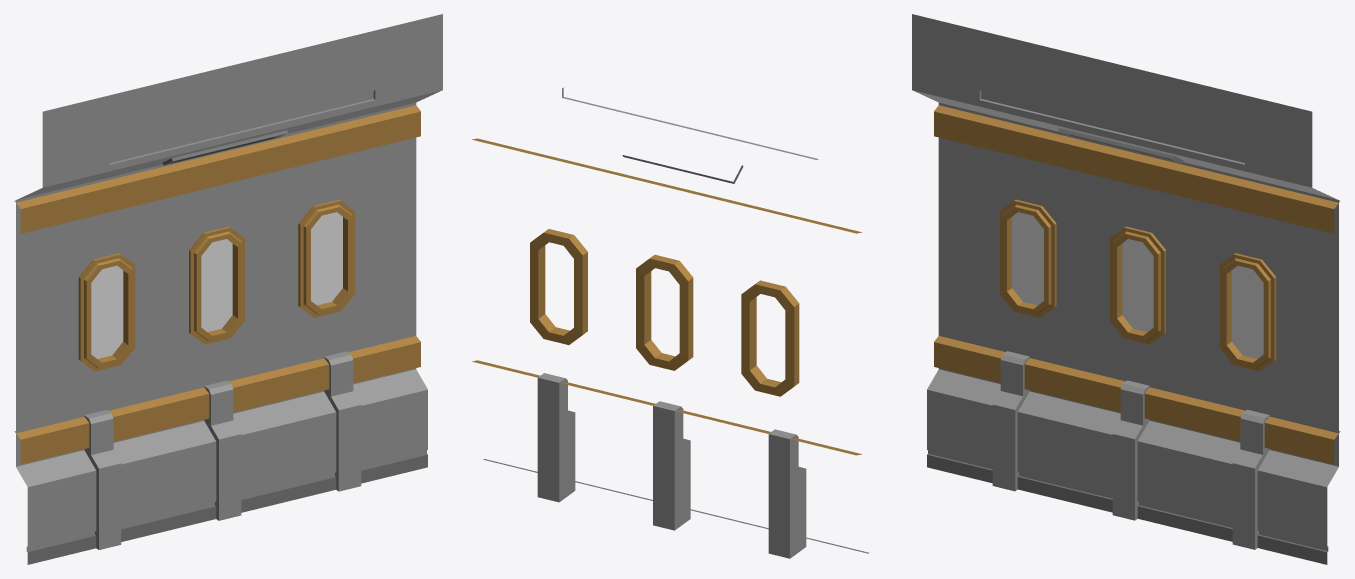
The model's file is quaternius-modular-sci-fi-three-windows-wall-side-b.glb.
3 renders of one model, left to right at view 1: azimuth 30°, elevation 25°; view 2: azimuth 150°, elevation 25°; view 3: azimuth 330°, elevation 25°, orthographic. The views are drawn at different scales.
Visible parts, largest first — view 1: ThreeWindows_Wall_SideB; view 2: ThreeWindows_Wall_SideB; view 3: ThreeWindows_Wall_SideB.
Part boxes in pixels (x1,y1,x2,y2): ThreeWindows_Wall_SideB: [14, 14, 442, 564]; ThreeWindows_Wall_SideB: [472, 87, 869, 558]; ThreeWindows_Wall_SideB: [912, 14, 1340, 564].
Size of the model in its own units: 4 by 4.43 by 0.5263.
